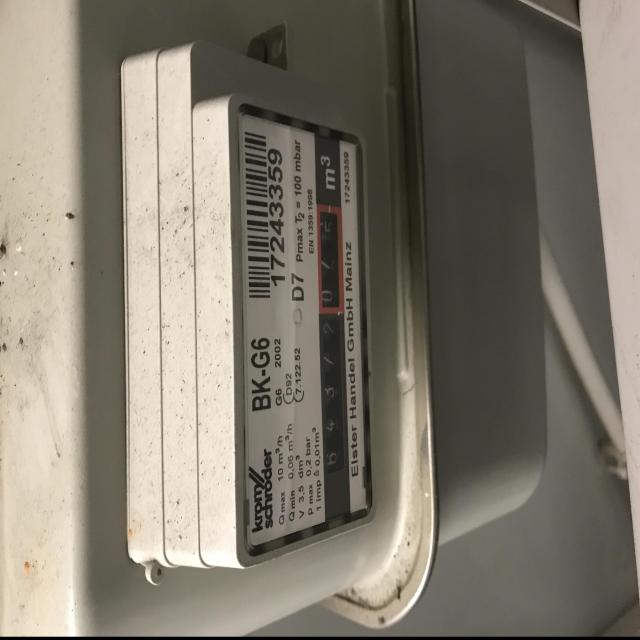gaz_meter: (242, 107, 370, 549)
indication: (315, 205, 347, 479)
